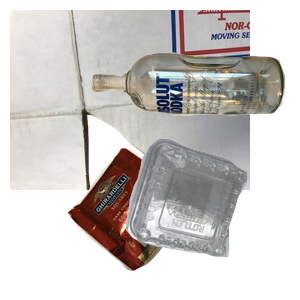cardboard: (10, 10, 250, 190)
glass: (88, 50, 300, 158)
plastic: (123, 136, 300, 300)
trash: (65, 145, 242, 300)
